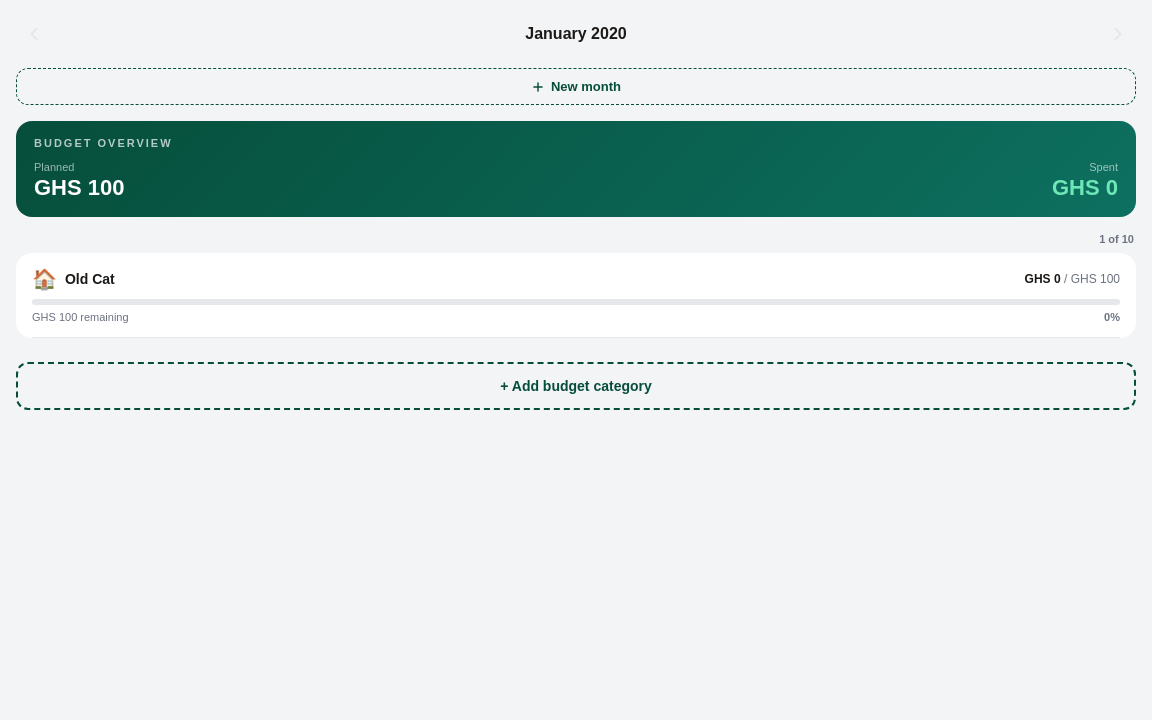
Test: BudgetView — cycles › Cancel on the guard aborts — no sheet, no mutation
Click the button "+ Add budget category" at {"x": 576, "y": 386}, box 16,362 -> 1136,410
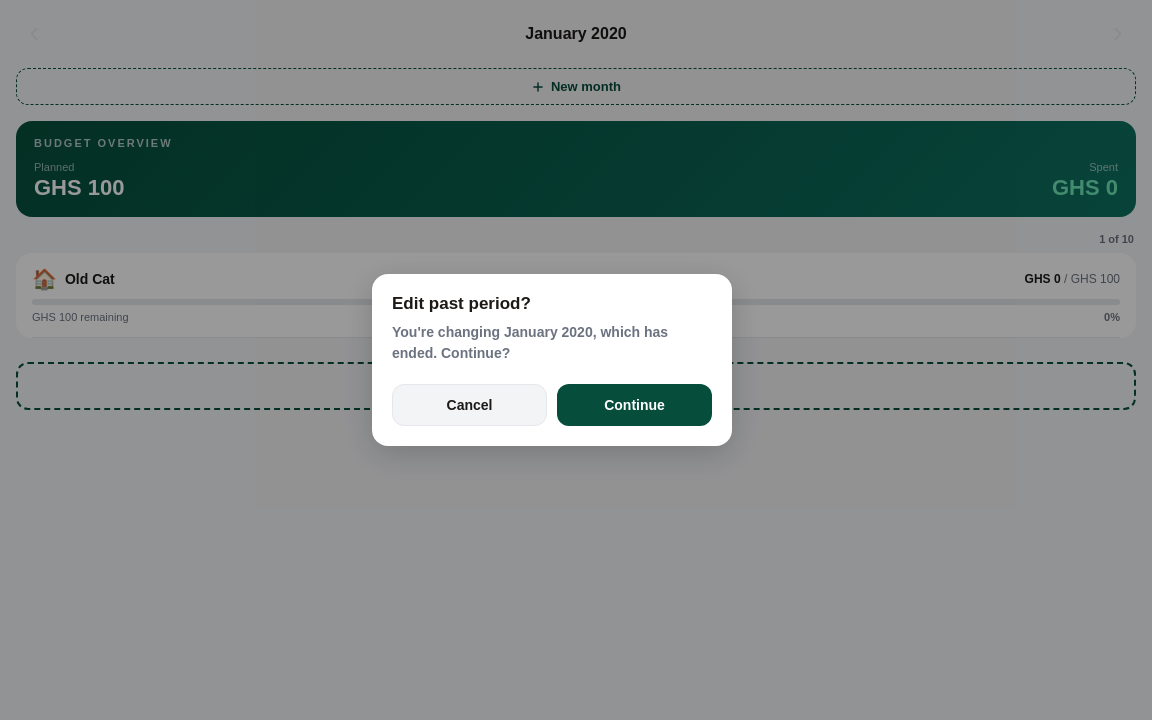
Click the button "Cancel" at {"x": 470, "y": 405}, box 392,384 -> 547,426
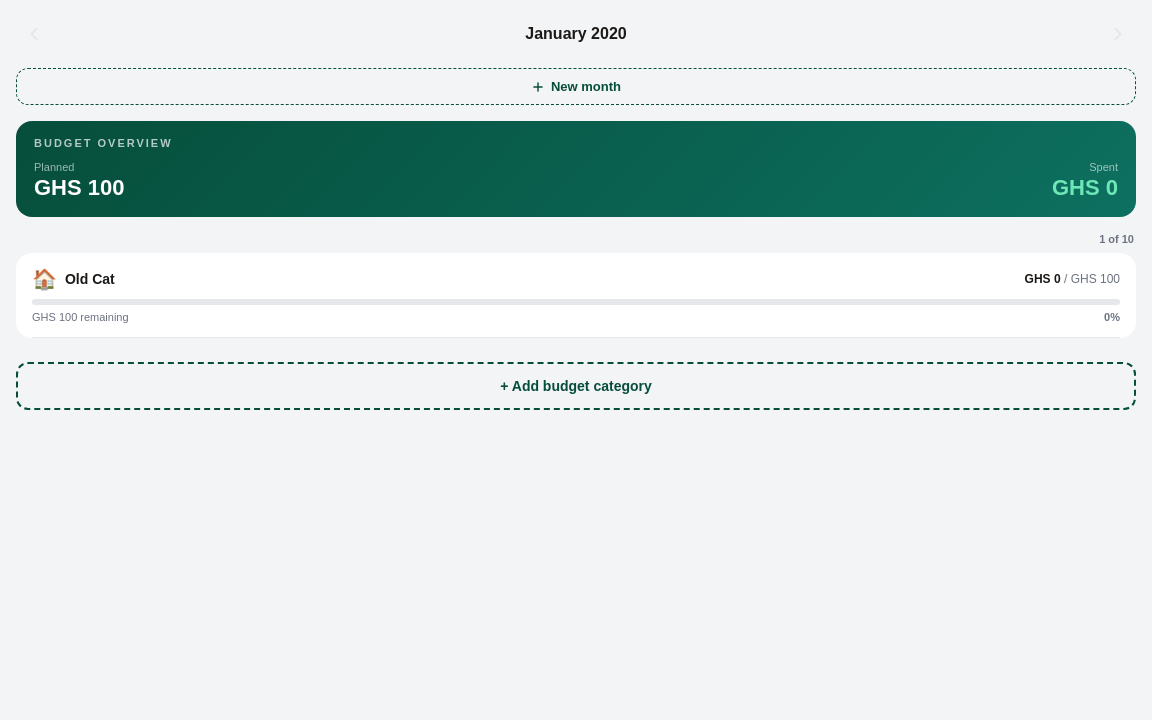
Result: the text "Edit past period?" is gone
